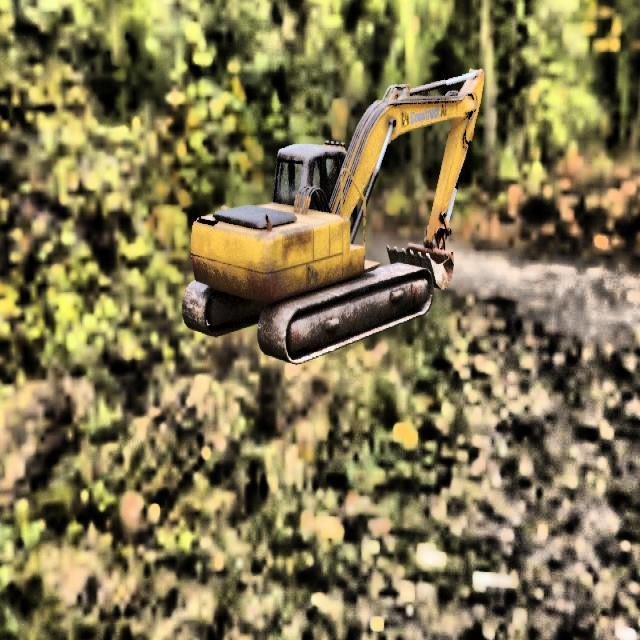excavator: (181, 68, 484, 366)
